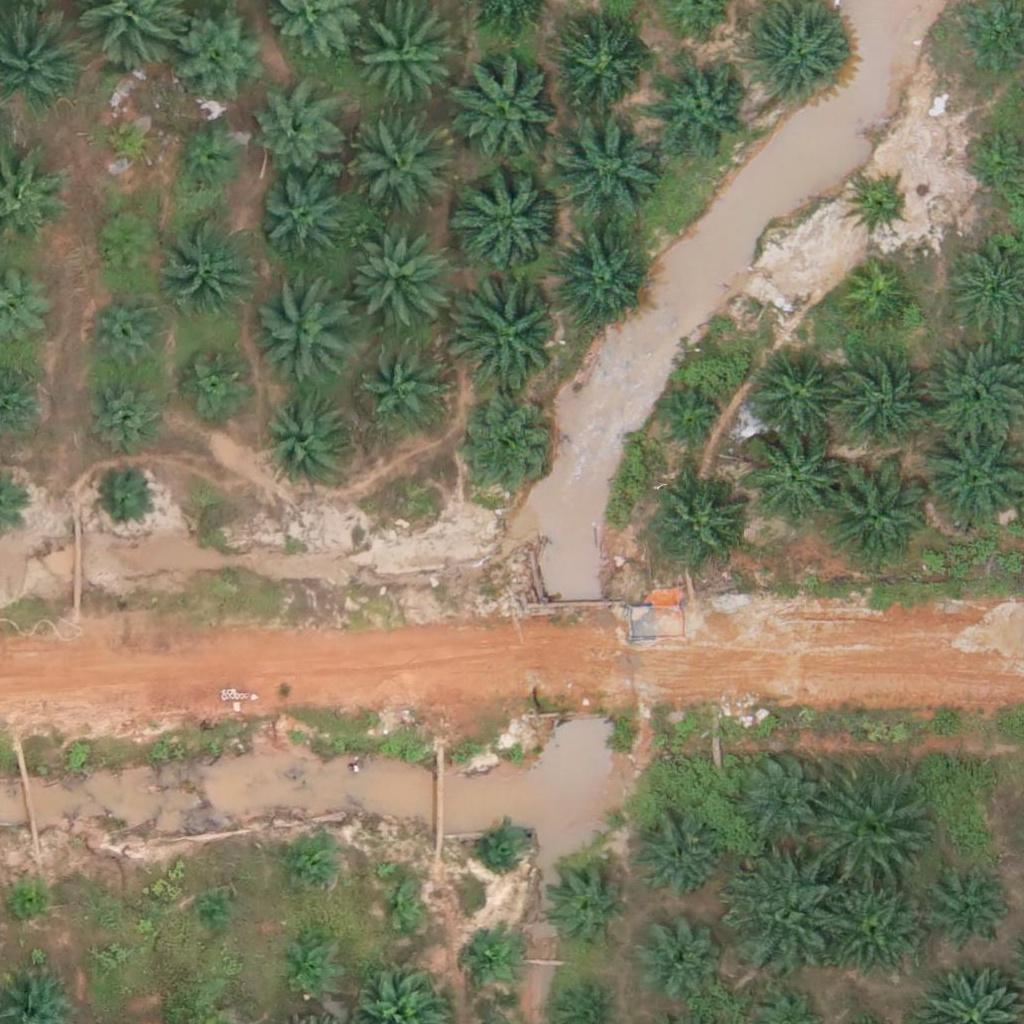Kelapa_Sawit: (820, 462, 933, 575), (549, 108, 662, 221), (450, 52, 563, 165), (454, 163, 567, 276), (816, 778, 928, 891), (726, 857, 838, 970), (453, 275, 565, 388), (822, 876, 922, 977), (728, 743, 828, 844), (831, 357, 931, 458), (746, 348, 846, 449), (548, 229, 648, 330), (648, 474, 748, 575), (456, 402, 556, 503), (353, 9, 453, 110), (348, 121, 448, 222), (344, 229, 444, 330), (172, 2, 272, 103), (163, 216, 263, 317), (748, 6, 848, 106), (741, 428, 841, 528), (654, 59, 754, 159), (255, 281, 355, 381), (559, 26, 647, 114), (252, 89, 340, 177), (77, 372, 165, 460), (634, 814, 721, 903), (255, 176, 342, 265), (928, 867, 1015, 955), (634, 913, 721, 1001), (544, 861, 631, 949), (362, 347, 449, 435), (264, 396, 351, 484), (87, 291, 174, 379), (171, 122, 246, 198), (90, 209, 165, 285), (178, 344, 253, 419), (839, 262, 914, 337), (654, 386, 729, 461), (848, 175, 911, 238), (94, 466, 156, 529), (97, 110, 159, 173), (466, 930, 516, 981), (473, 820, 523, 870), (376, 883, 426, 933), (284, 837, 334, 887), (279, 940, 329, 990), (193, 898, 231, 936), (7, 882, 44, 920), (96, 945, 121, 971)
